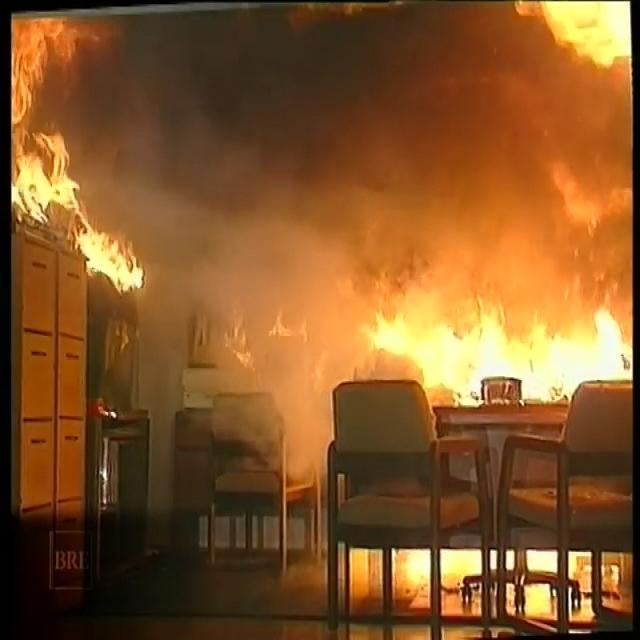Fire: (4, 0, 638, 397)
